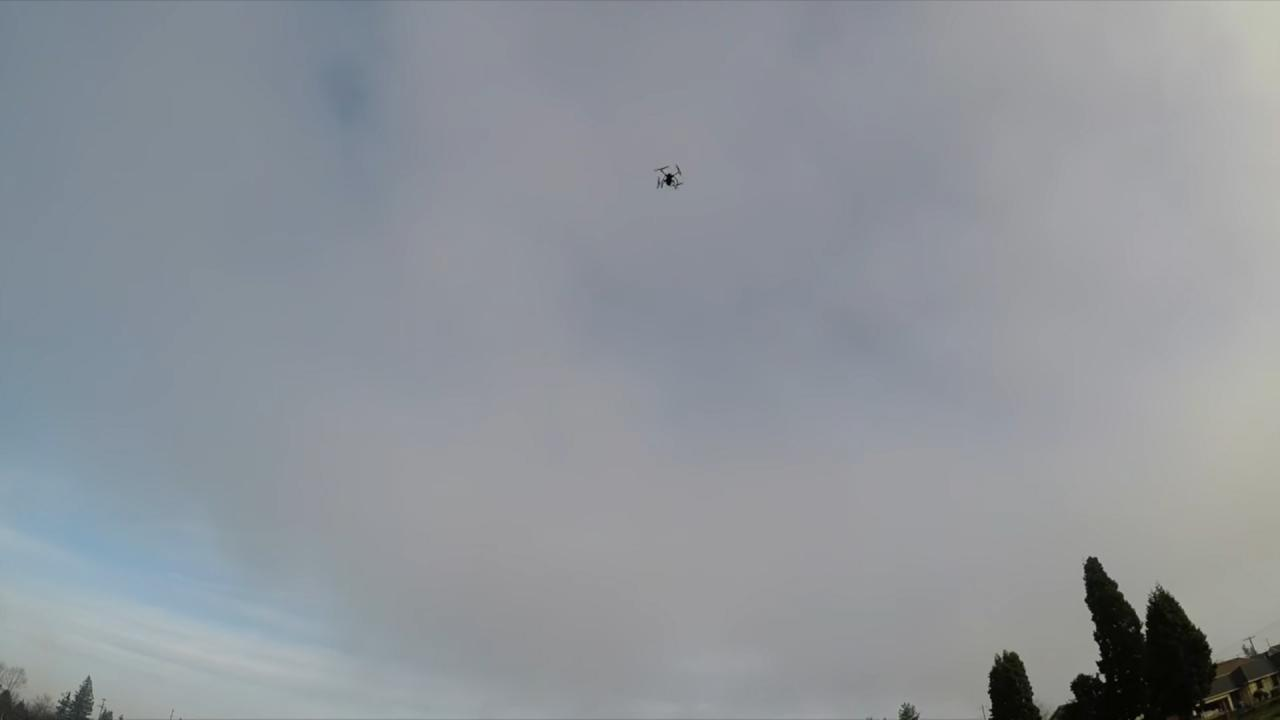Drone: (646, 154, 691, 198)
